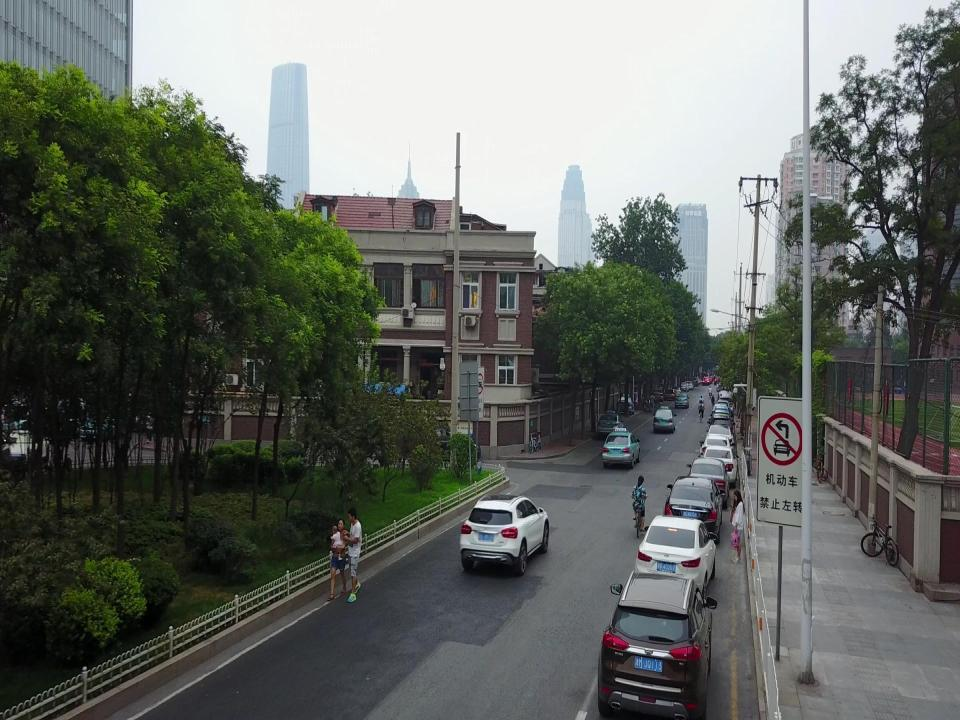car: (599, 570, 717, 720), (460, 492, 550, 575), (635, 517, 715, 595), (662, 473, 722, 544), (408, 426, 481, 465), (686, 454, 728, 504), (602, 427, 640, 468), (701, 446, 739, 486), (698, 435, 732, 460), (707, 422, 733, 452), (597, 411, 624, 436), (709, 414, 735, 439), (654, 406, 676, 433), (714, 406, 732, 429), (616, 393, 634, 414), (718, 396, 734, 417), (716, 399, 730, 420), (674, 393, 690, 410), (713, 404, 727, 419), (719, 392, 733, 405), (718, 389, 732, 401), (652, 388, 664, 401), (664, 388, 676, 399), (672, 387, 682, 396), (680, 383, 688, 392), (685, 381, 693, 389), (692, 377, 698, 387)
